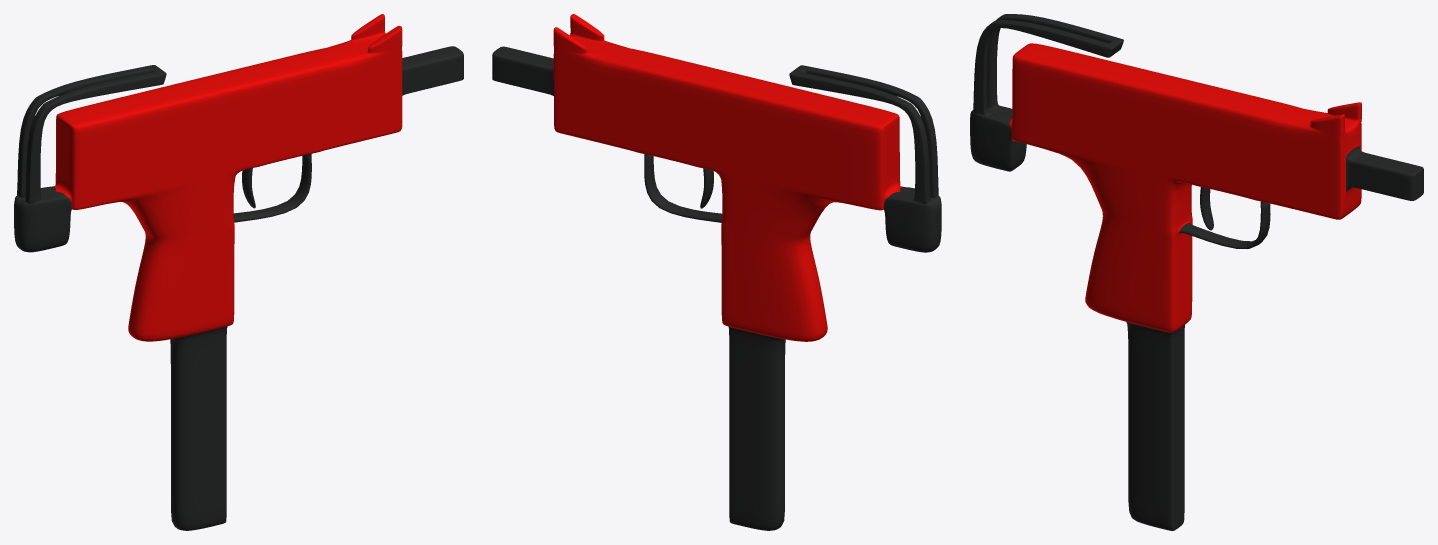
Rendered from Mac-10.fbx.
3 views of the same model, side by side, from view 1: azimuth 30°, elevation 25°; view 2: azimuth 150°, elevation 25°; view 3: azimuth 330°, elevation 25° (orthographic).
Parts seen in each view (by area): view 1: Mac-10; view 2: Mac-10; view 3: Mac-10.
Part boxes in pixels (x1,y1,x2,y2): Mac-10: [14, 14, 463, 530]; Mac-10: [492, 14, 941, 530]; Mac-10: [970, 14, 1423, 530].
Bounding box in the file's own units: 470 × 476 × 39.11.
